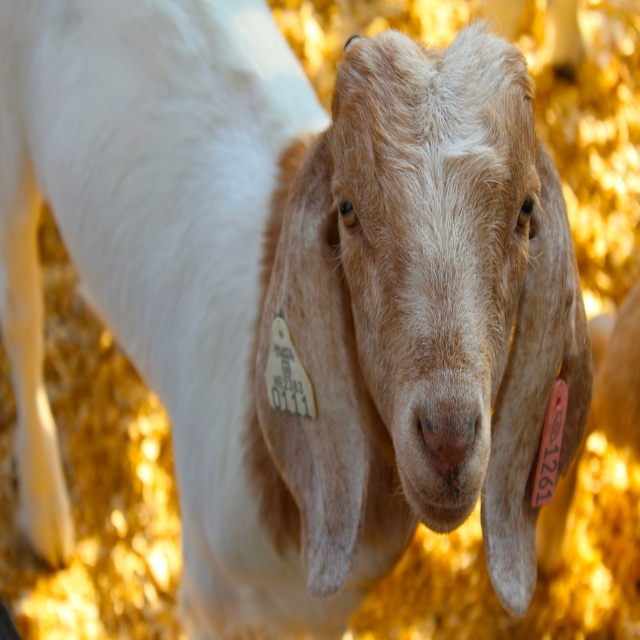Goat: (0, 0, 594, 639)
